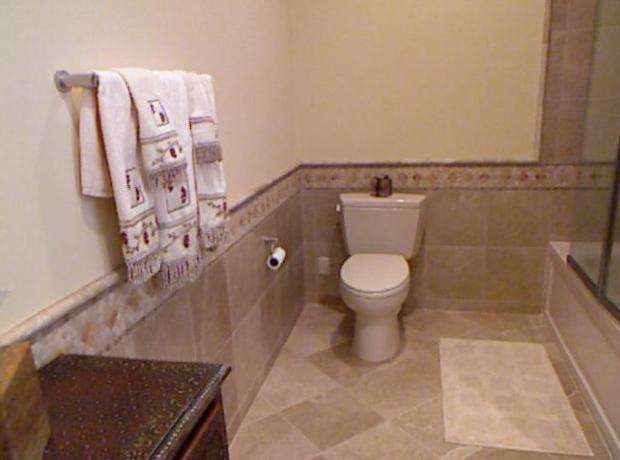Ducha: (546, 3, 618, 449)
Sanitario: (332, 188, 429, 366)
